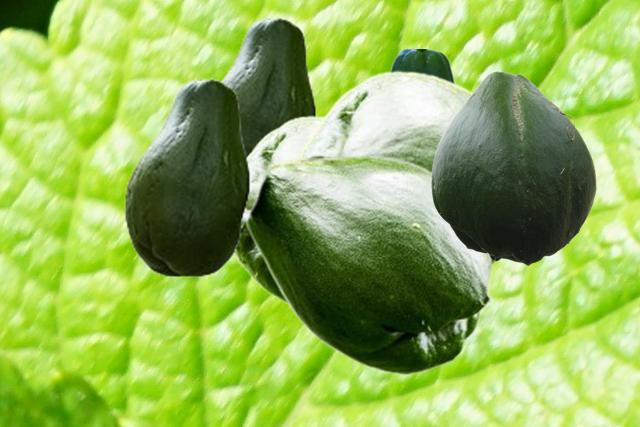sayote: (246, 154, 492, 374), (295, 70, 502, 268), (431, 71, 595, 265), (124, 78, 249, 276), (234, 115, 322, 307), (219, 17, 315, 154), (389, 49, 455, 81)
